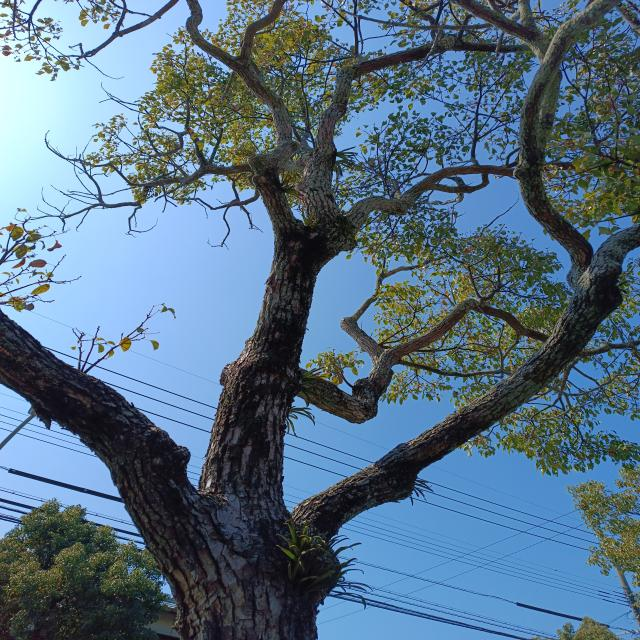Branch: (291, 291, 623, 544), (0, 309, 197, 575), (294, 35, 529, 226), (450, 0, 561, 161), (520, 0, 620, 150), (347, 165, 516, 237), (340, 254, 449, 362), (385, 298, 550, 369), (515, 143, 592, 294), (233, 57, 298, 231), (296, 356, 393, 424), (589, 224, 640, 296), (185, 0, 235, 69), (428, 159, 519, 194), (239, 0, 287, 60), (142, 165, 251, 187)
Twig: (76, 0, 179, 61), (78, 154, 150, 208), (116, 100, 189, 137), (138, 117, 184, 156), (184, 101, 209, 164), (82, 160, 142, 186), (61, 203, 100, 233), (470, 69, 482, 165), (115, 0, 127, 31), (28, 215, 68, 220), (382, 256, 386, 273)
